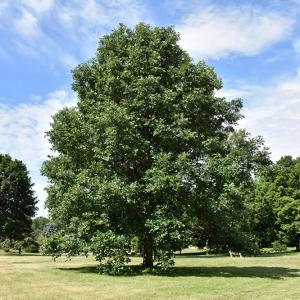Tree: (39, 21, 272, 270)
